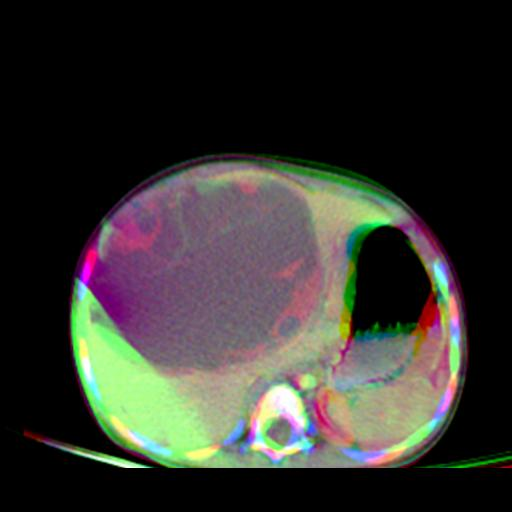Tumor: (227, 180, 317, 288)
